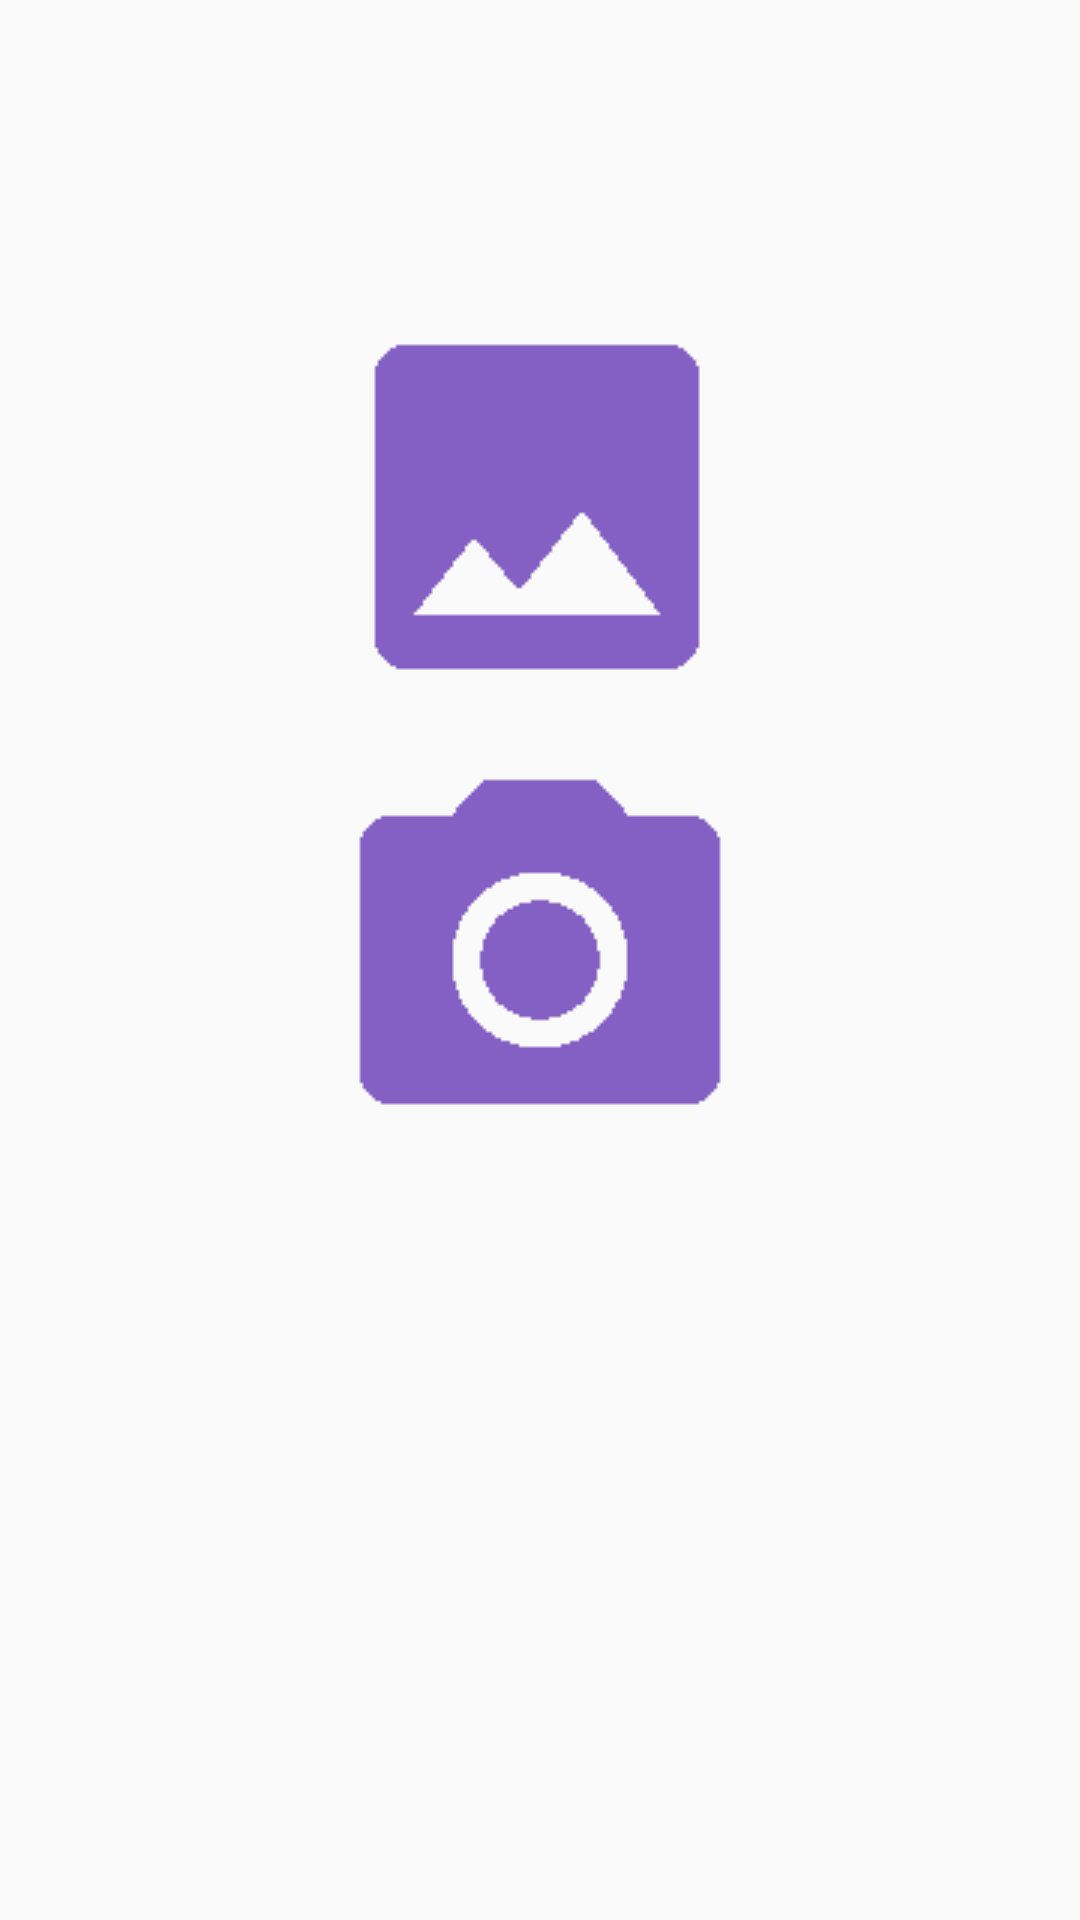

Icon bounding boxes for this 1080x1920 phone screenshot, format (x1, y1, x2, y2):
gallery: (374, 344, 700, 670)
